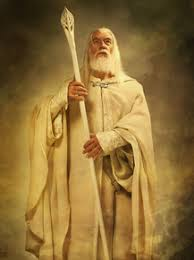gandalf gray: (17, 9, 171, 246)
